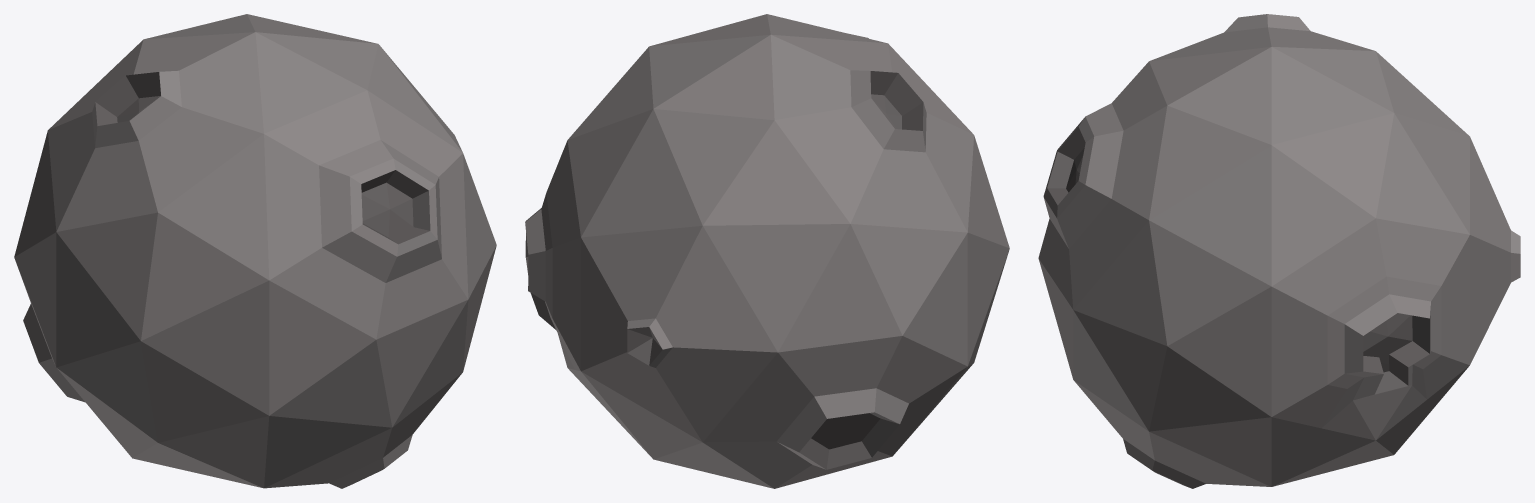
The model's file is moon.glb.
3 renders of one model, left to right at view 1: azimuth 30°, elevation 25°; view 2: azimuth 150°, elevation 25°; view 3: azimuth 270°, elevation 25°, orthographic. The views are drawn at different scales.
Visible parts, largest first — view 1: moon; view 2: moon; view 3: moon.
Boxes of the visible parts, x1,y1,x2,y2 form: moon: [14, 14, 496, 488]; moon: [525, 14, 1009, 488]; moon: [1038, 14, 1520, 488].
Size of the model in its own units: 9.54 by 10 by 10.34.
Materials: 1 (1 with a texture image).
